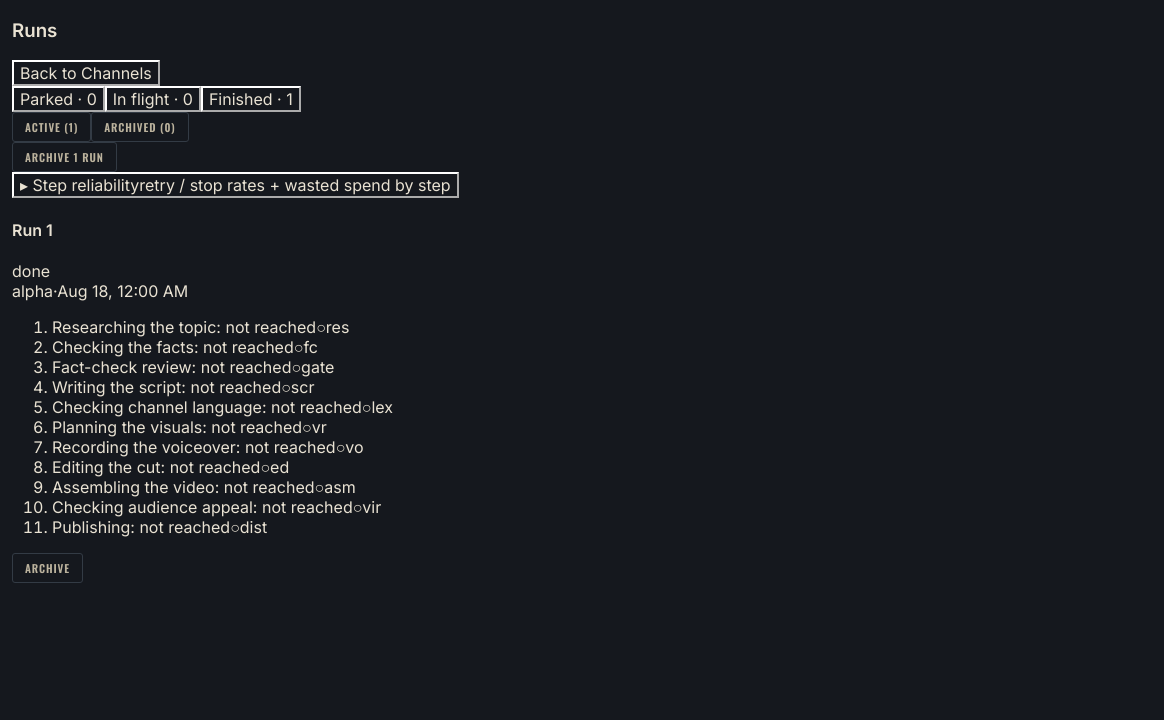
Test: RunsHub archive controls › shows an archive write failure instead of claiming success
Click the button "Archive 1 run" at x=64, y=157, box x1=12 y1=142 x2=117 y2=172
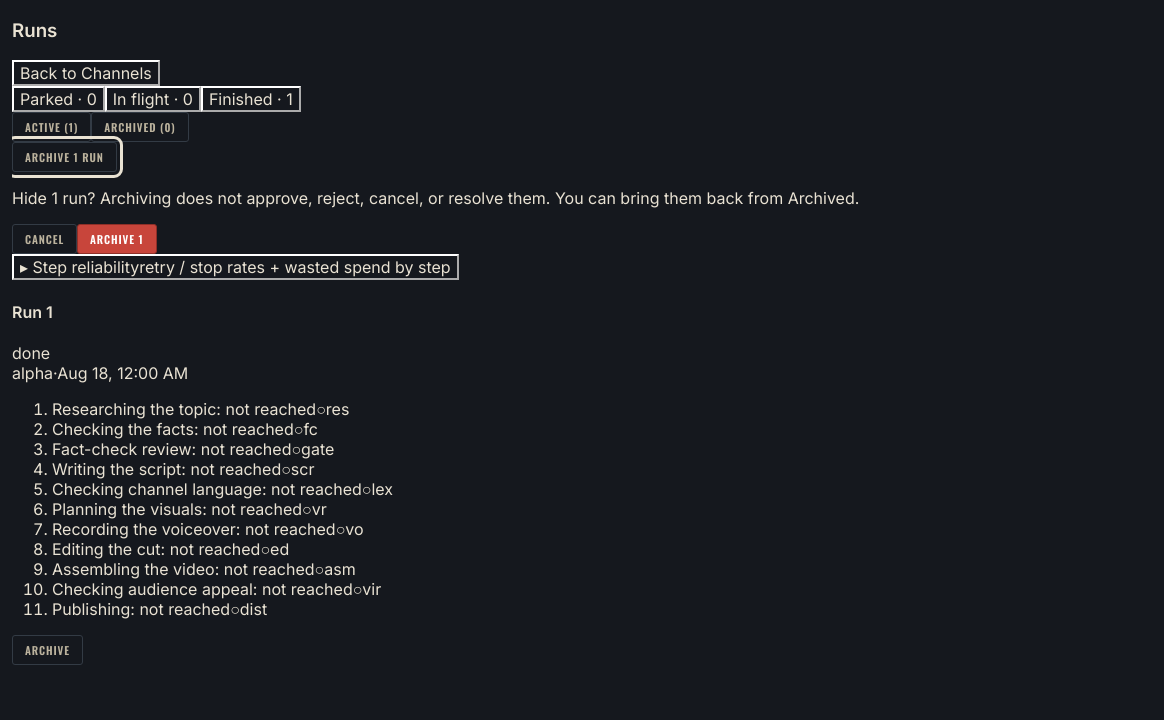
Click the button "Archive 1" at x=117, y=239, box x1=77 y1=224 x2=157 y2=254
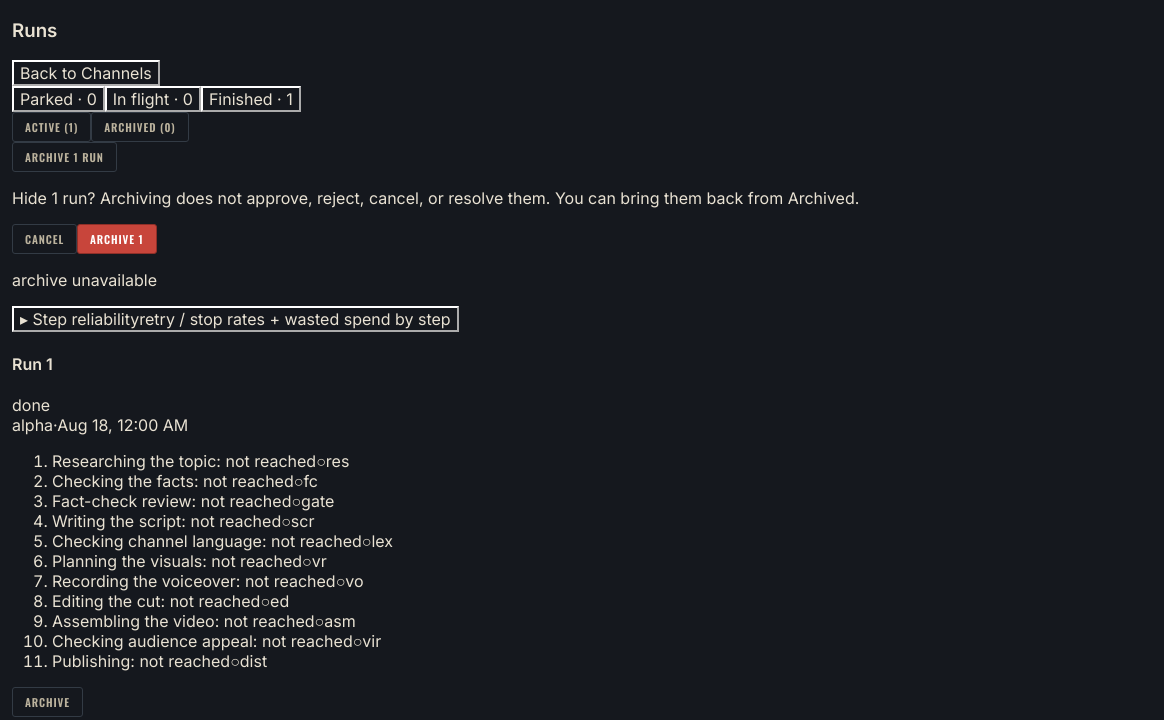
expect the message reads "archive unavailable": met, box x1=12 y1=270 x2=157 y2=290
